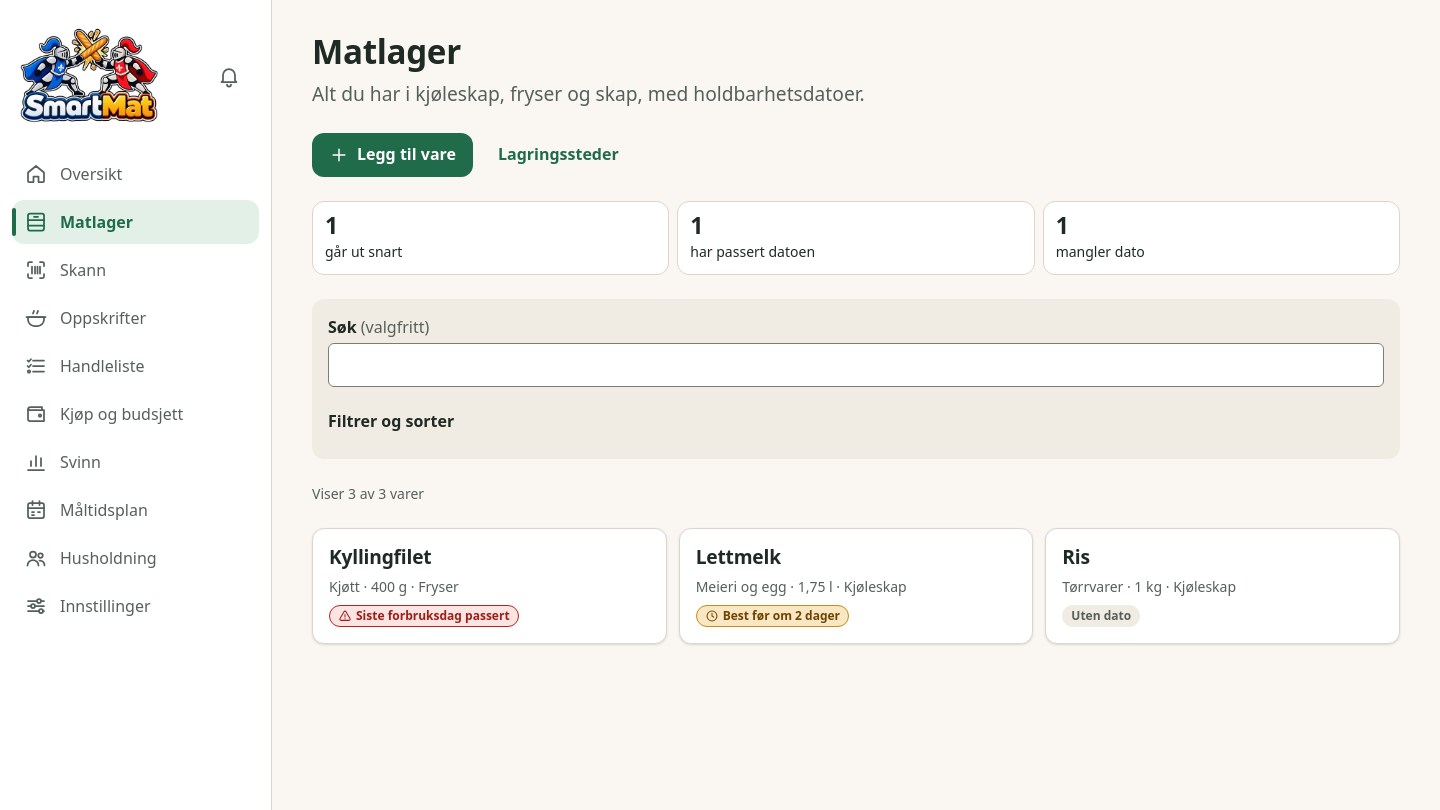
FR-INV-004/005 inventory page › search filters as you type and is kept in the URL
Step 1. Type "ris" into the search field labelled "Søk (valgfritt)" → (856, 365), box [328,343,1384,387]
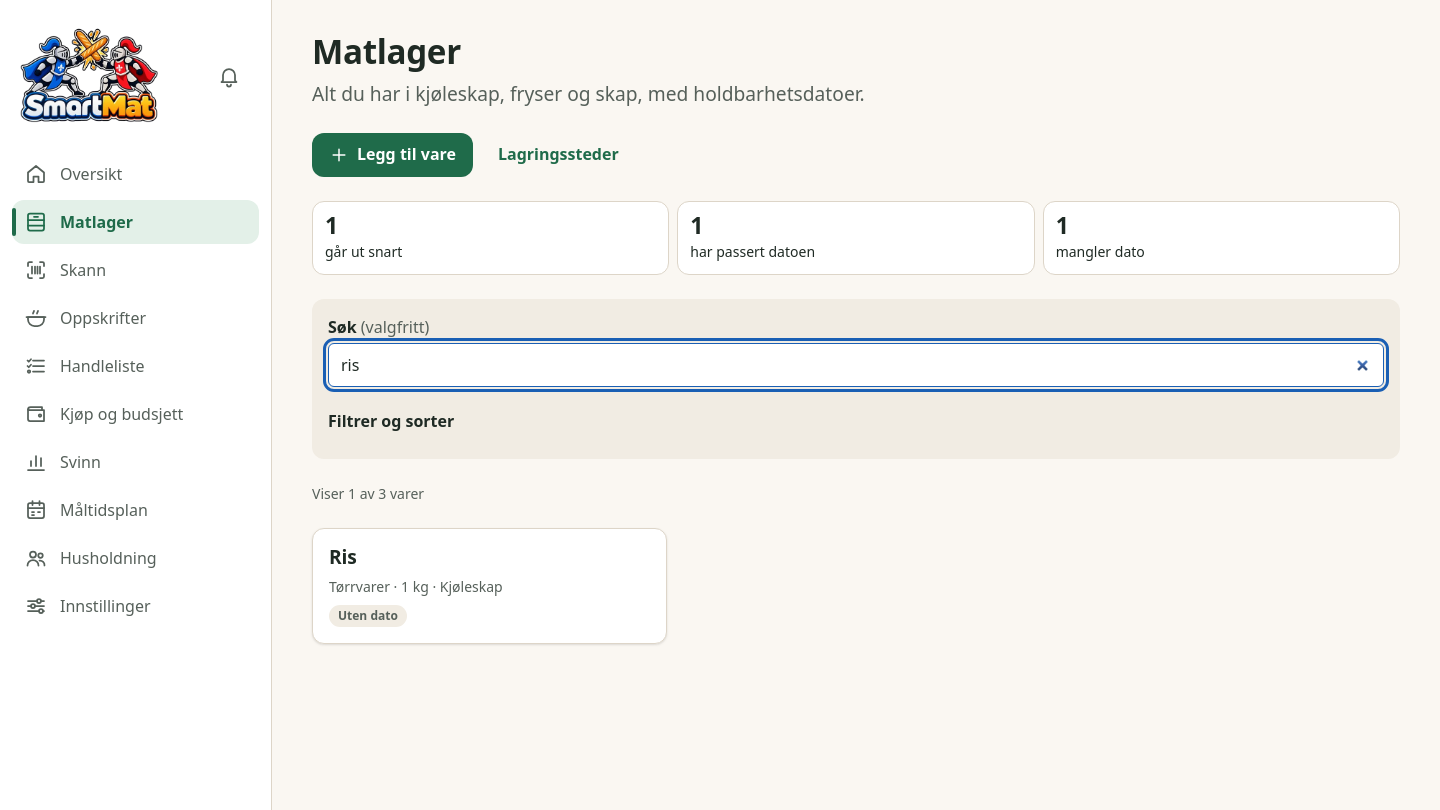
Result: the headings read "Ris", in this order at [329,543,356,570]
Result: the message reads "Viser 1 av 3 varer" at [312,484,424,503]
